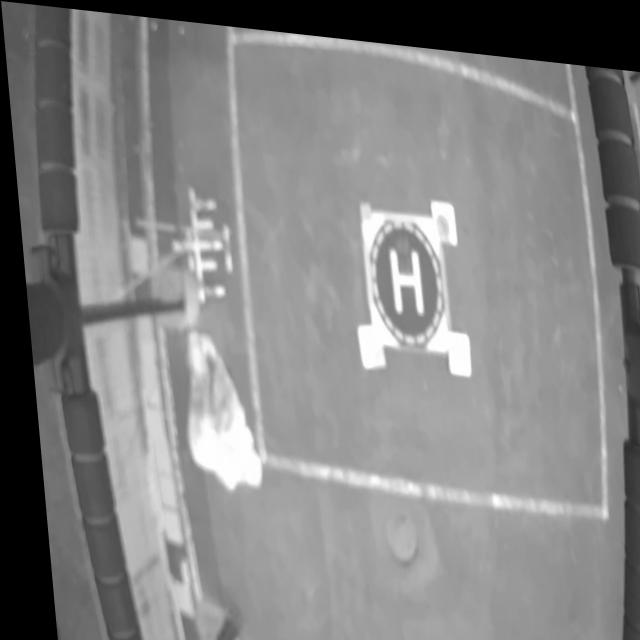Helipad: (384, 236, 418, 305)
